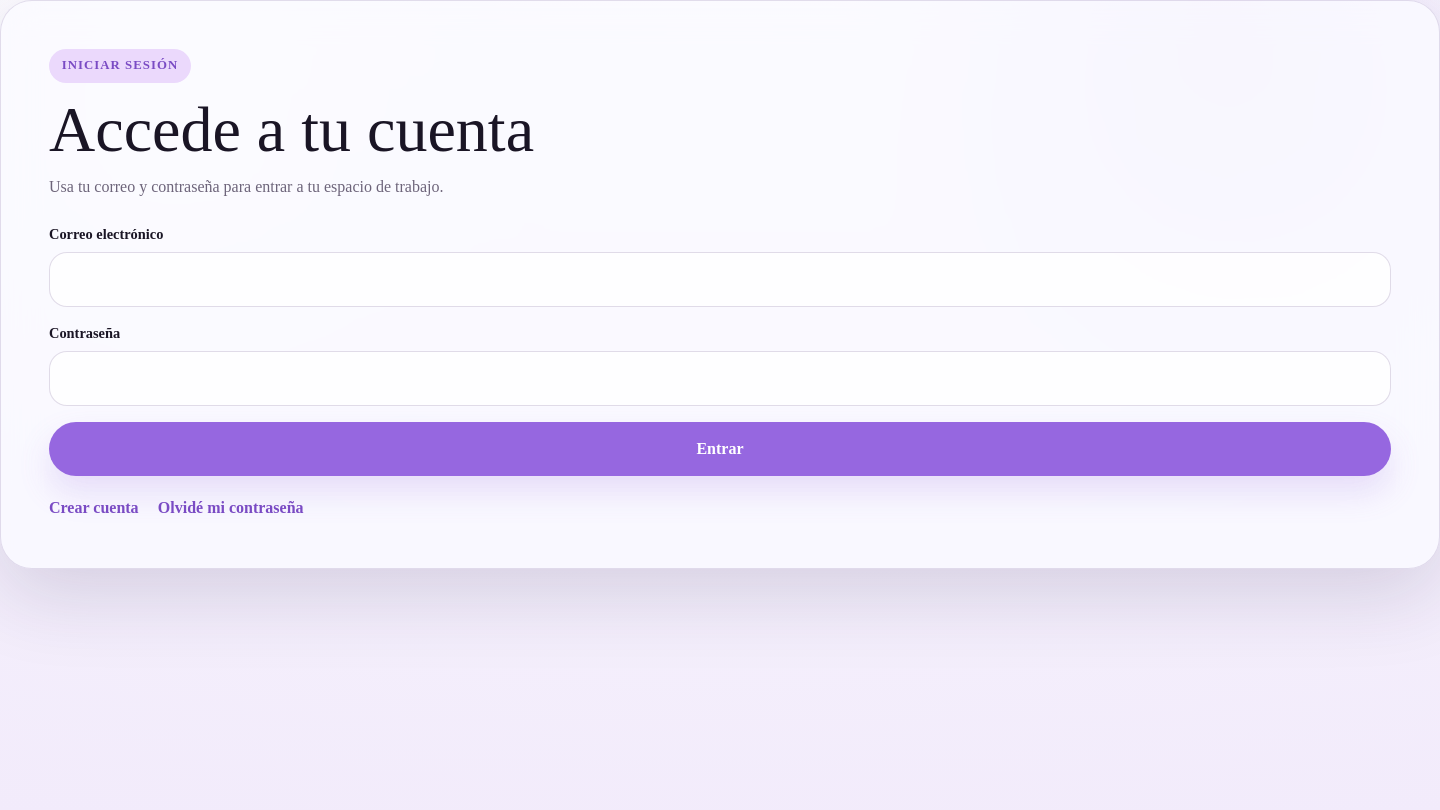
it: SignInForm › shows validation messages before submitting
Step 1. Click the button "Entrar" → [720, 449], box x1=49 y1=422 x2=1391 y2=476
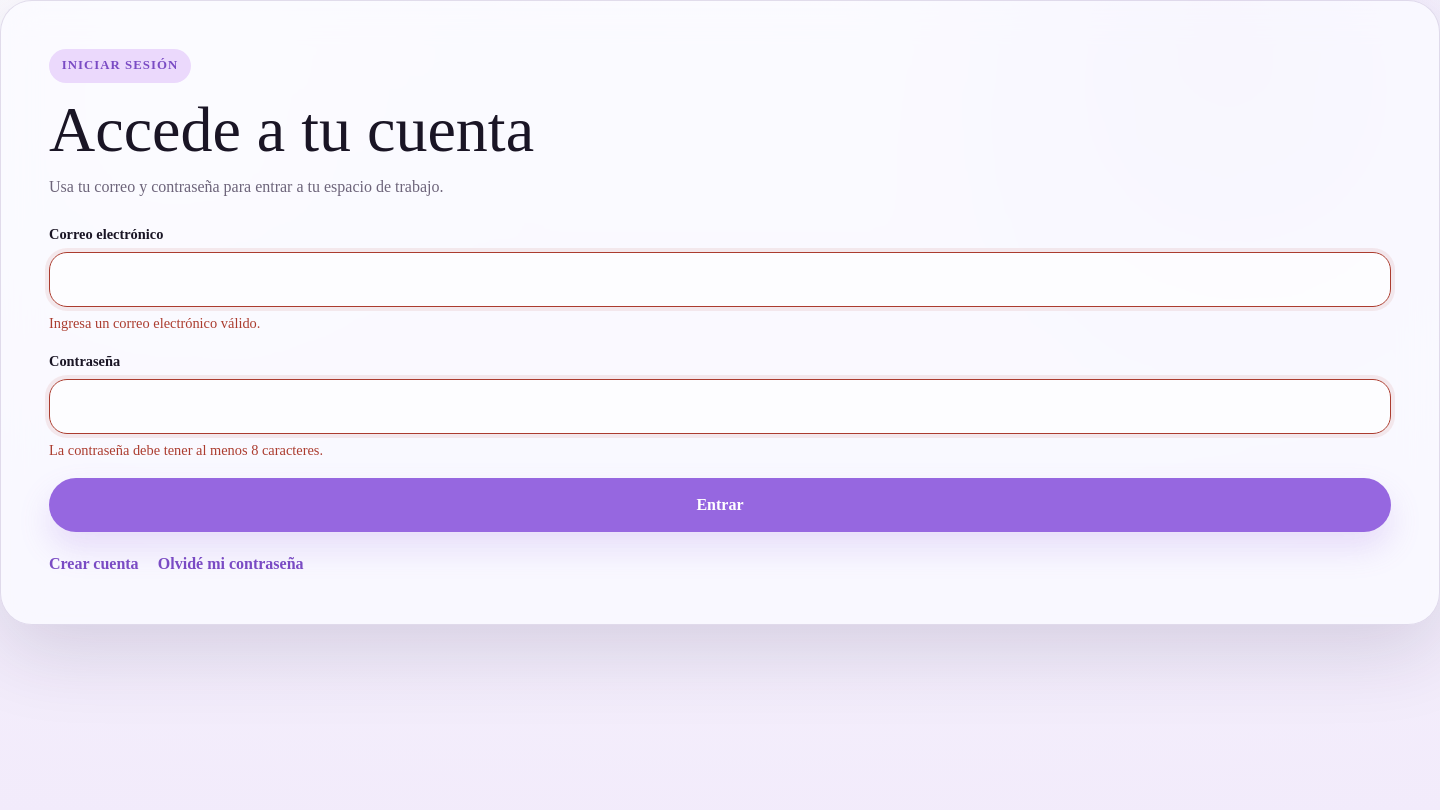
Expected: the text "Ingresa un correo electrónico válido." is shown, x1=49 y1=315 x2=260 y2=331
Expected: the text "La contraseña debe tener al menos 8 caracteres." is shown, x1=49 y1=442 x2=323 y2=458
